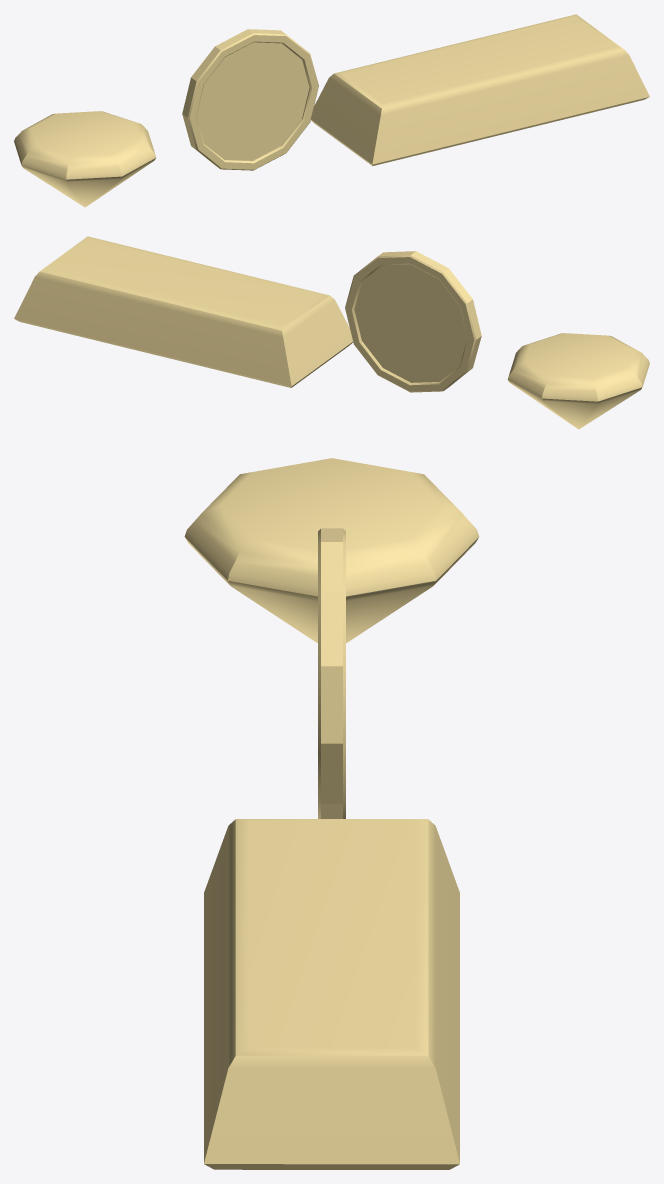
Rendered from Loot.fbx.
The picture shows the model from 3 angles, top to bottom: view 1: azimuth 30°, elevation 25°; view 2: azimuth 150°, elevation 25°; view 3: azimuth 270°, elevation 25°; orthographic projection. The views are drawn at different scales.
Parts seen in each view (by area): view 1: Gold_Bar, Coin, Gem; view 2: Gold_Bar, Coin, Gem; view 3: Gold_Bar, Gem, Coin.
Boxes of the visible parts, x1=… form: Gold_Bar: x1=311, y1=14, x2=649, y2=165; Coin: x1=182, y1=29, x2=318, y2=170; Gem: x1=14, y1=111, x2=156, y2=207; Gold_Bar: x1=14, y1=236, x2=352, y2=387; Coin: x1=345, y1=251, x2=481, y2=392; Gem: x1=507, y1=333, x2=649, y2=429; Gold_Bar: x1=204, y1=819, x2=459, y2=1169; Gem: x1=184, y1=458, x2=479, y2=643; Coin: x1=318, y1=528, x2=345, y2=818.
Bounding box in the file's own units: 9.09 × 2 × 1.94.
